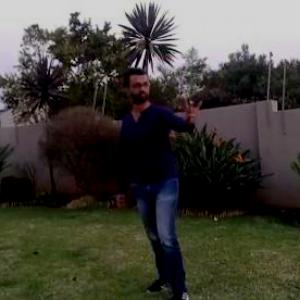takeoff-hand: (179, 90, 212, 128)
